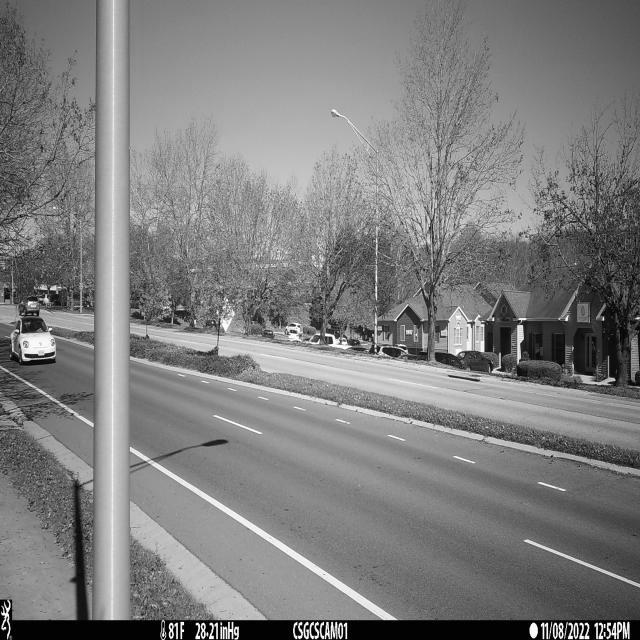Hatchback: (10, 317, 57, 366)
